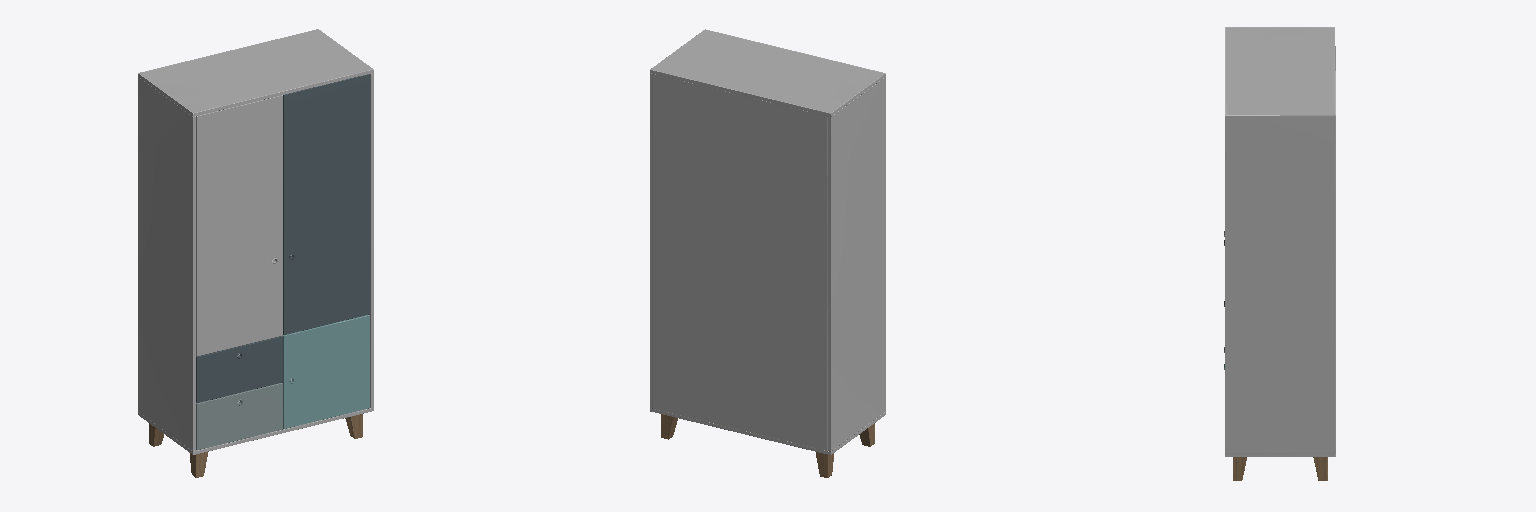
3 renders of one model, left to right at view 1: azimuth 30°, elevation 25°; view 2: azimuth 150°, elevation 25°; view 3: azimuth 270°, elevation 25°, orthographic.
Visible parts, largest first — view 1: solid_001_wire; view 2: solid_001_wire; view 3: solid_001_wire.
Boxes of the visible parts, x1=… form: solid_001_wire: x1=138, y1=29, x2=373, y2=477; solid_001_wire: x1=650, y1=29, x2=885, y2=477; solid_001_wire: x1=1224, y1=27, x2=1335, y2=480.
Bounding box in the file's own units: 1.03 × 2.01 × 0.549.
1 materials, 1 textured.